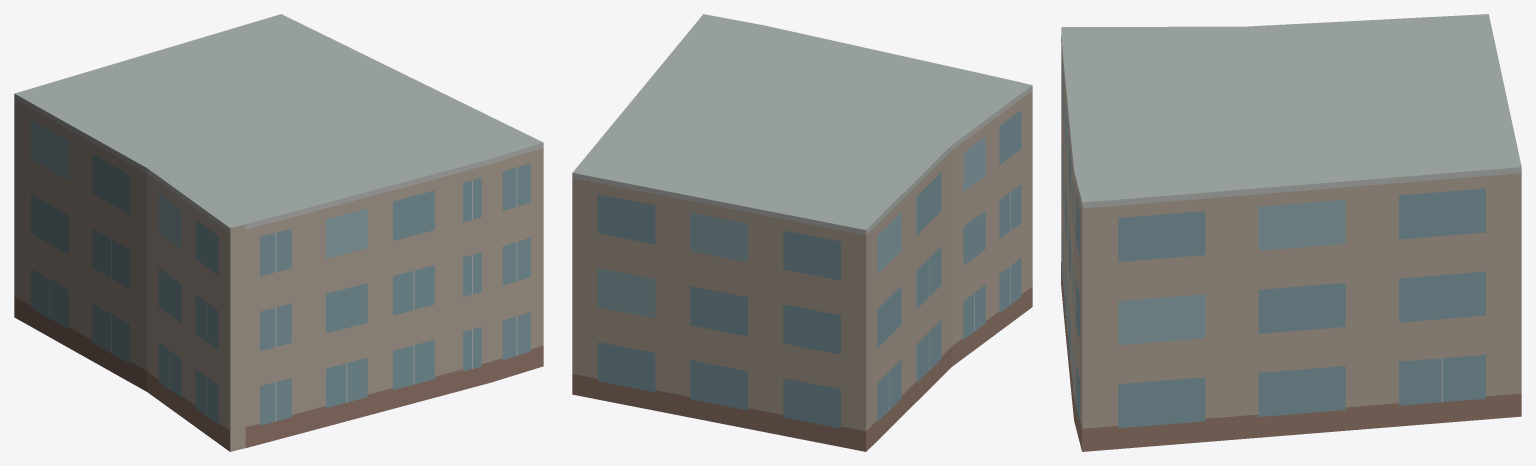
File: survey-upis-32469301.glb
The picture shows the model from 3 angles, left to right: view 1: azimuth 30°, elevation 25°; view 2: azimuth 150°, elevation 25°; view 3: azimuth 270°, elevation 25°; orthographic projection. The views are drawn at different scales.
Visible parts, largest first — view 1: survey-upis-32469301.tmp; view 2: survey-upis-32469301.tmp; view 3: survey-upis-32469301.tmp.
Boxes of the visible parts, bbox=[...] form: survey-upis-32469301.tmp: bbox=[14, 14, 543, 451]; survey-upis-32469301.tmp: bbox=[572, 14, 1032, 451]; survey-upis-32469301.tmp: bbox=[1061, 14, 1521, 451].
Size of the model in its own units: 16.55 by 10.2 by 17.08.
